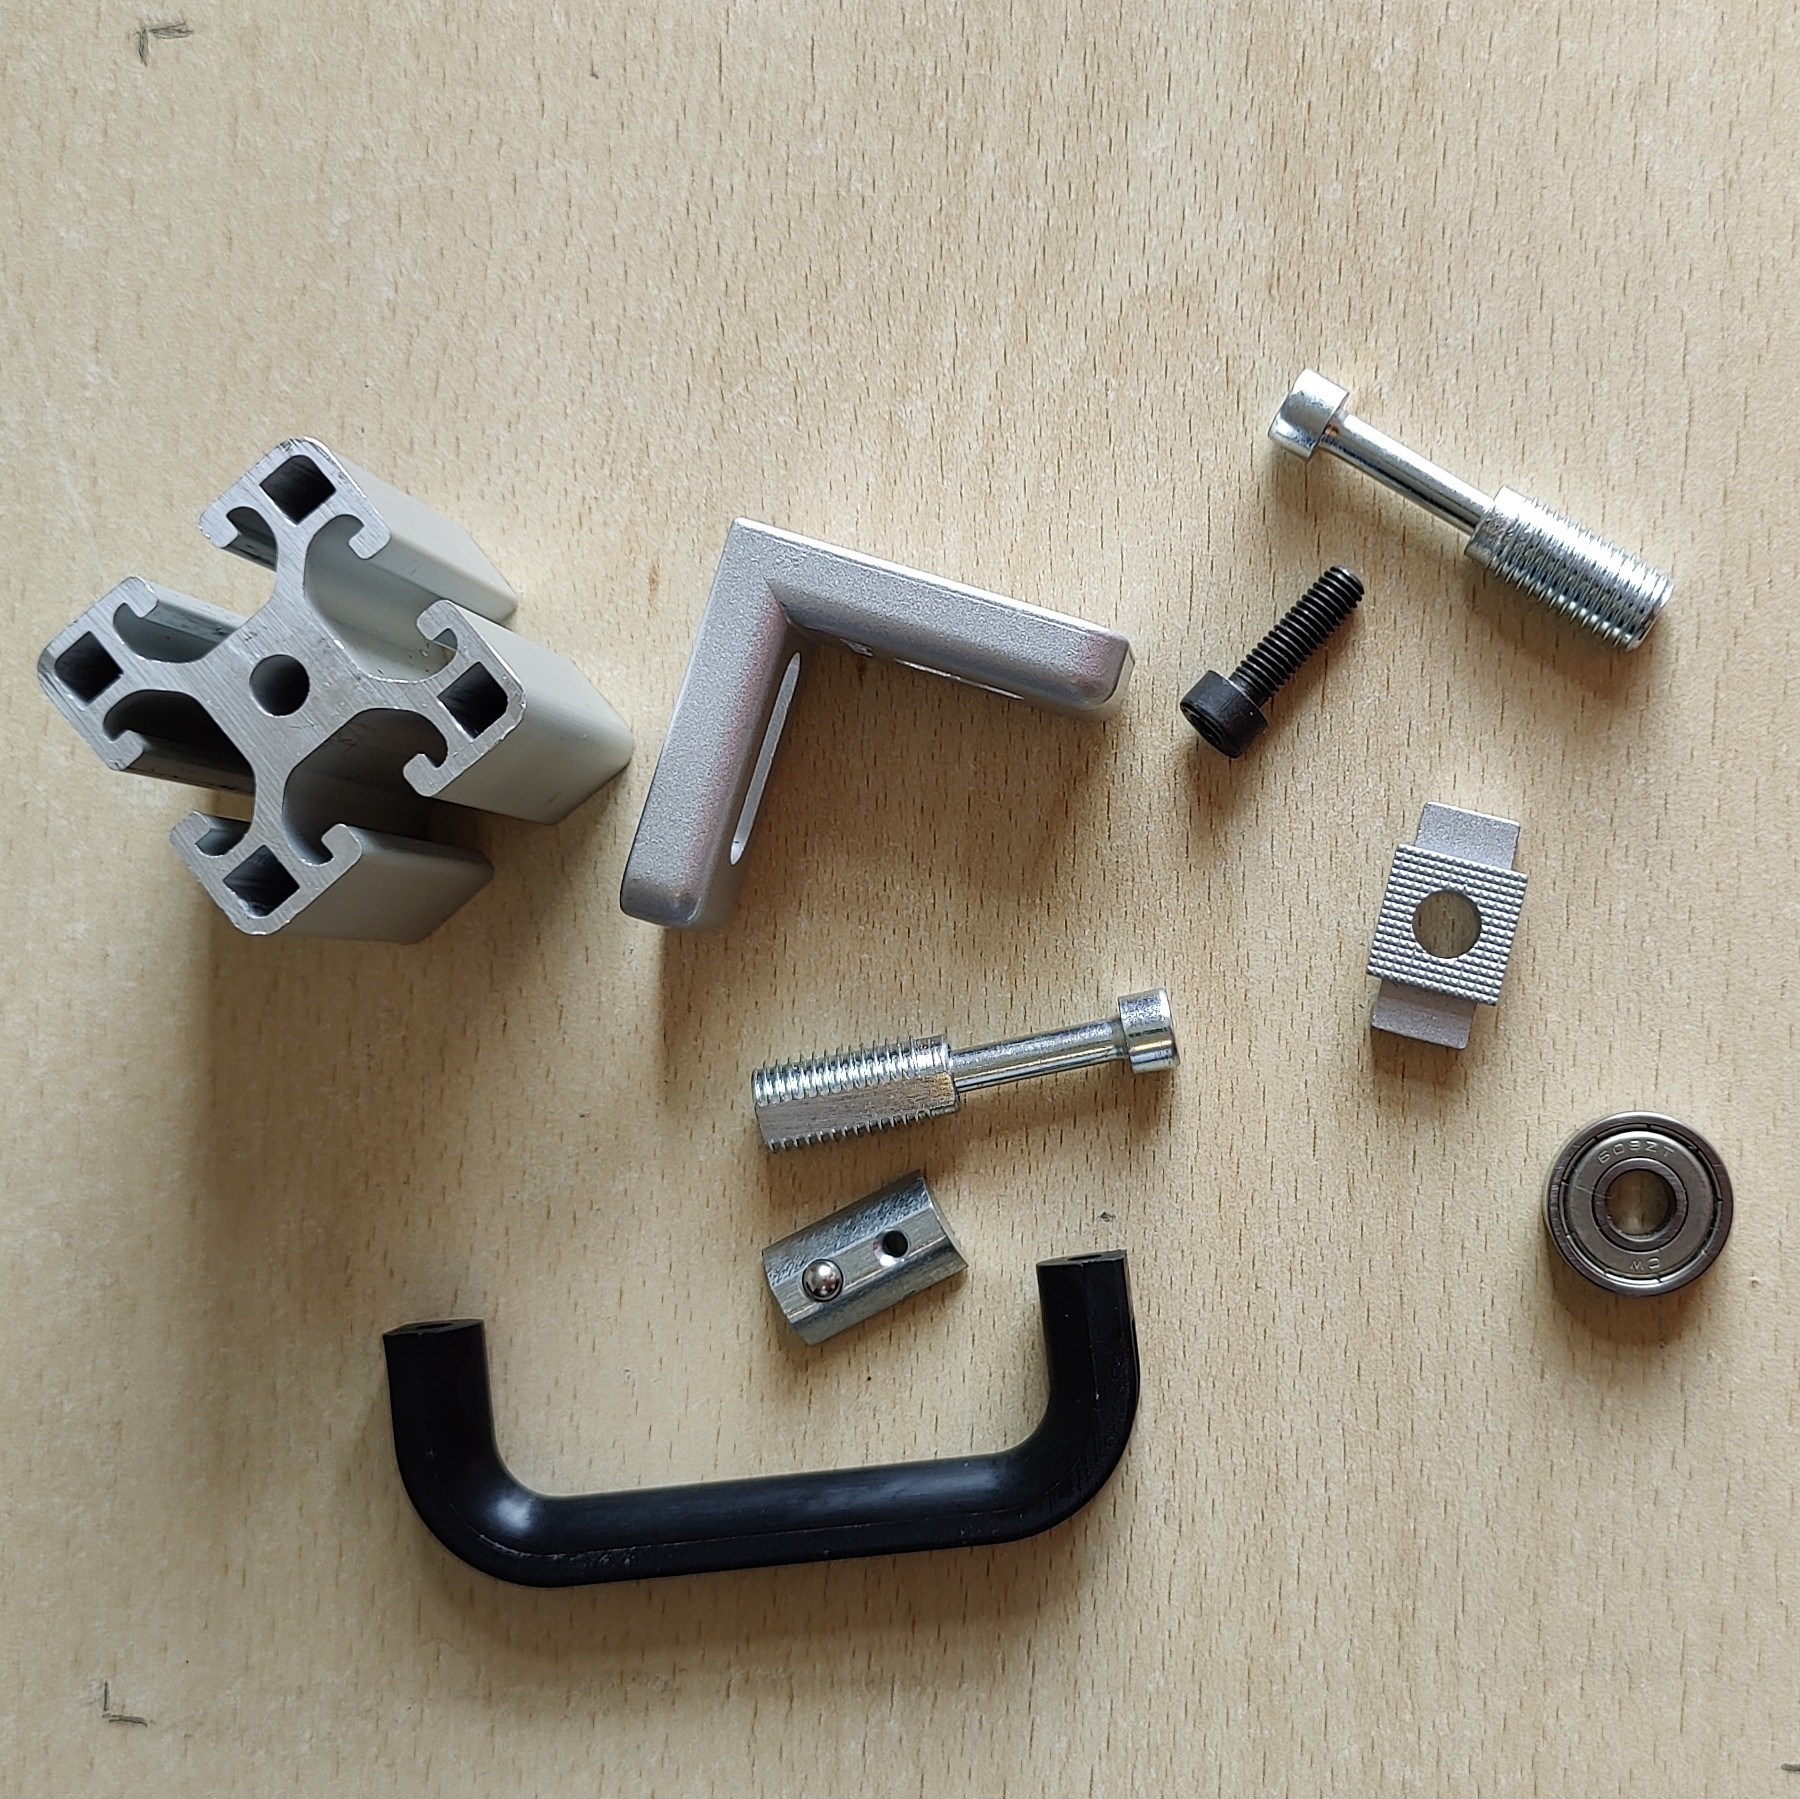Aluminium Extension: (35, 433, 636, 946)
Ball Bearing: (1540, 1110, 1736, 1300)
Multiwinkel: (618, 517, 1138, 936)
Pull Handle: (379, 1245, 1143, 1591)
Shoulder Socket Head Cap Screw: (1270, 367, 1676, 657), (748, 987, 1181, 1158)
Socket Head Cap Screw: (1177, 562, 1365, 759)
T Nut Square: (1360, 802, 1533, 1056)
T Spring Nut: (762, 1168, 970, 1353)
